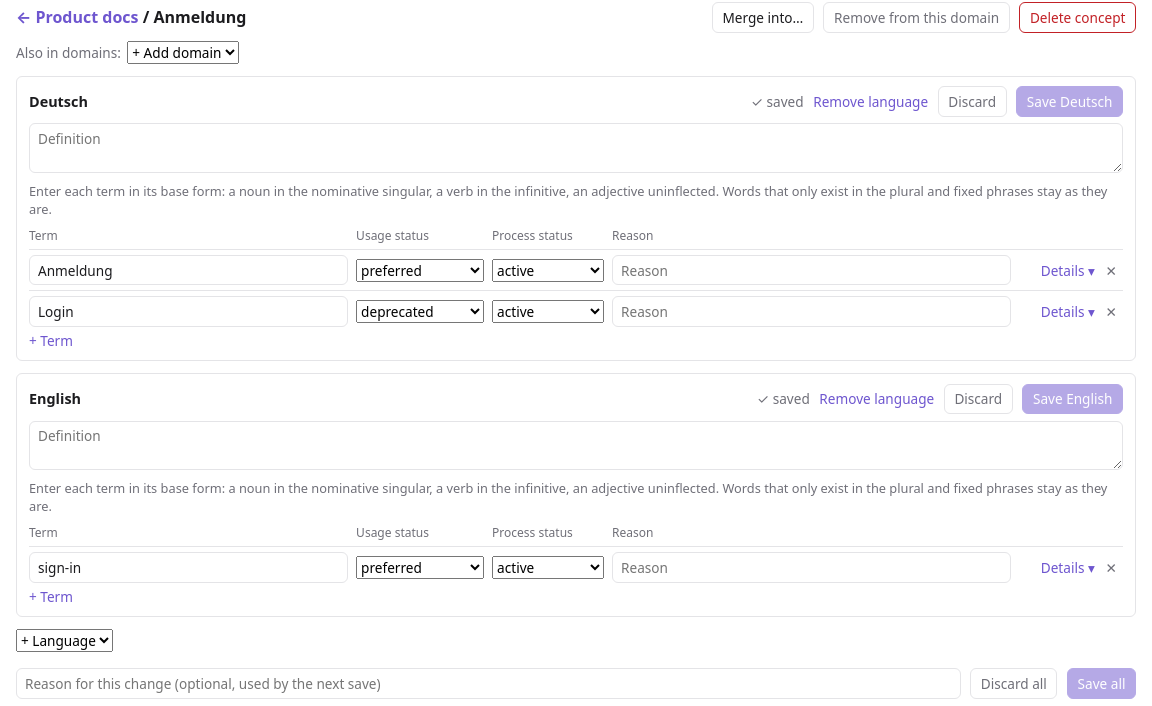
it: ConceptEntry checks before sending › disables the section save and shows the reason for a second active preferred term
The width and height of the screenshot is (1152, 706).
Select "preferred" in the 2nd dropdown named "Usage status" at {"x": 420, "y": 311}, box [356,300,484,323]
(page scrolled)
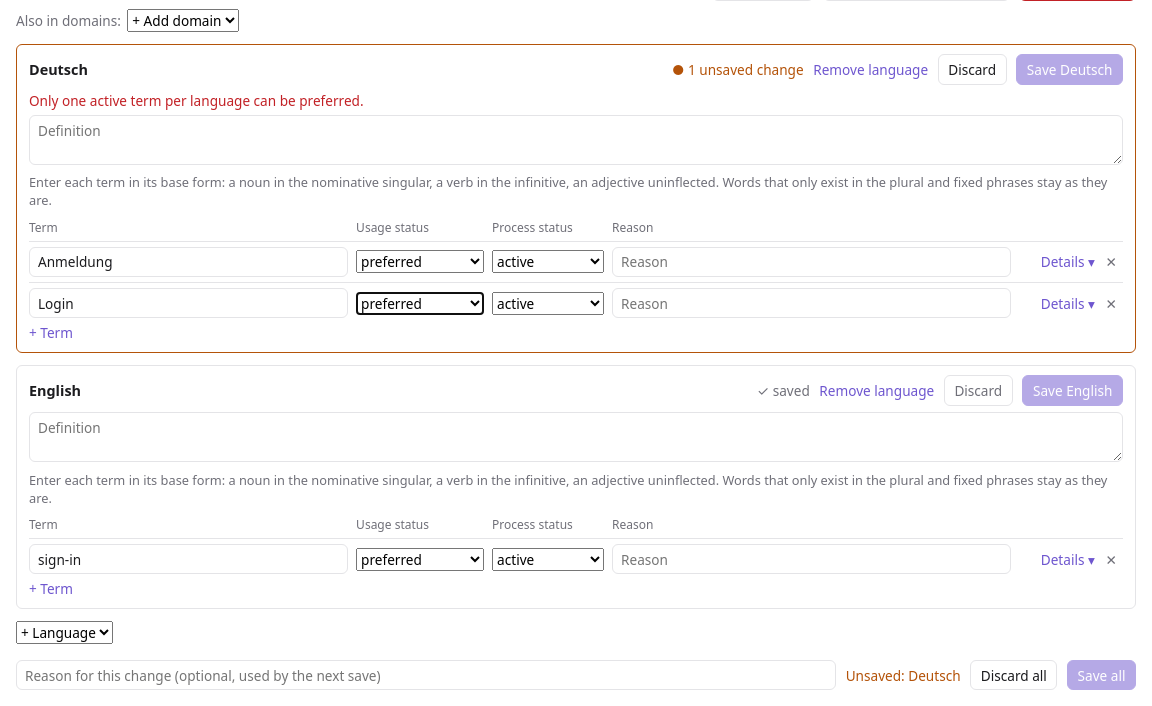
Check: the button "Save all" is disabled, box [1067,660,1136,690]
Check: the text "Only one active term per language can be preferred." is shown, box [29,91,364,110]
